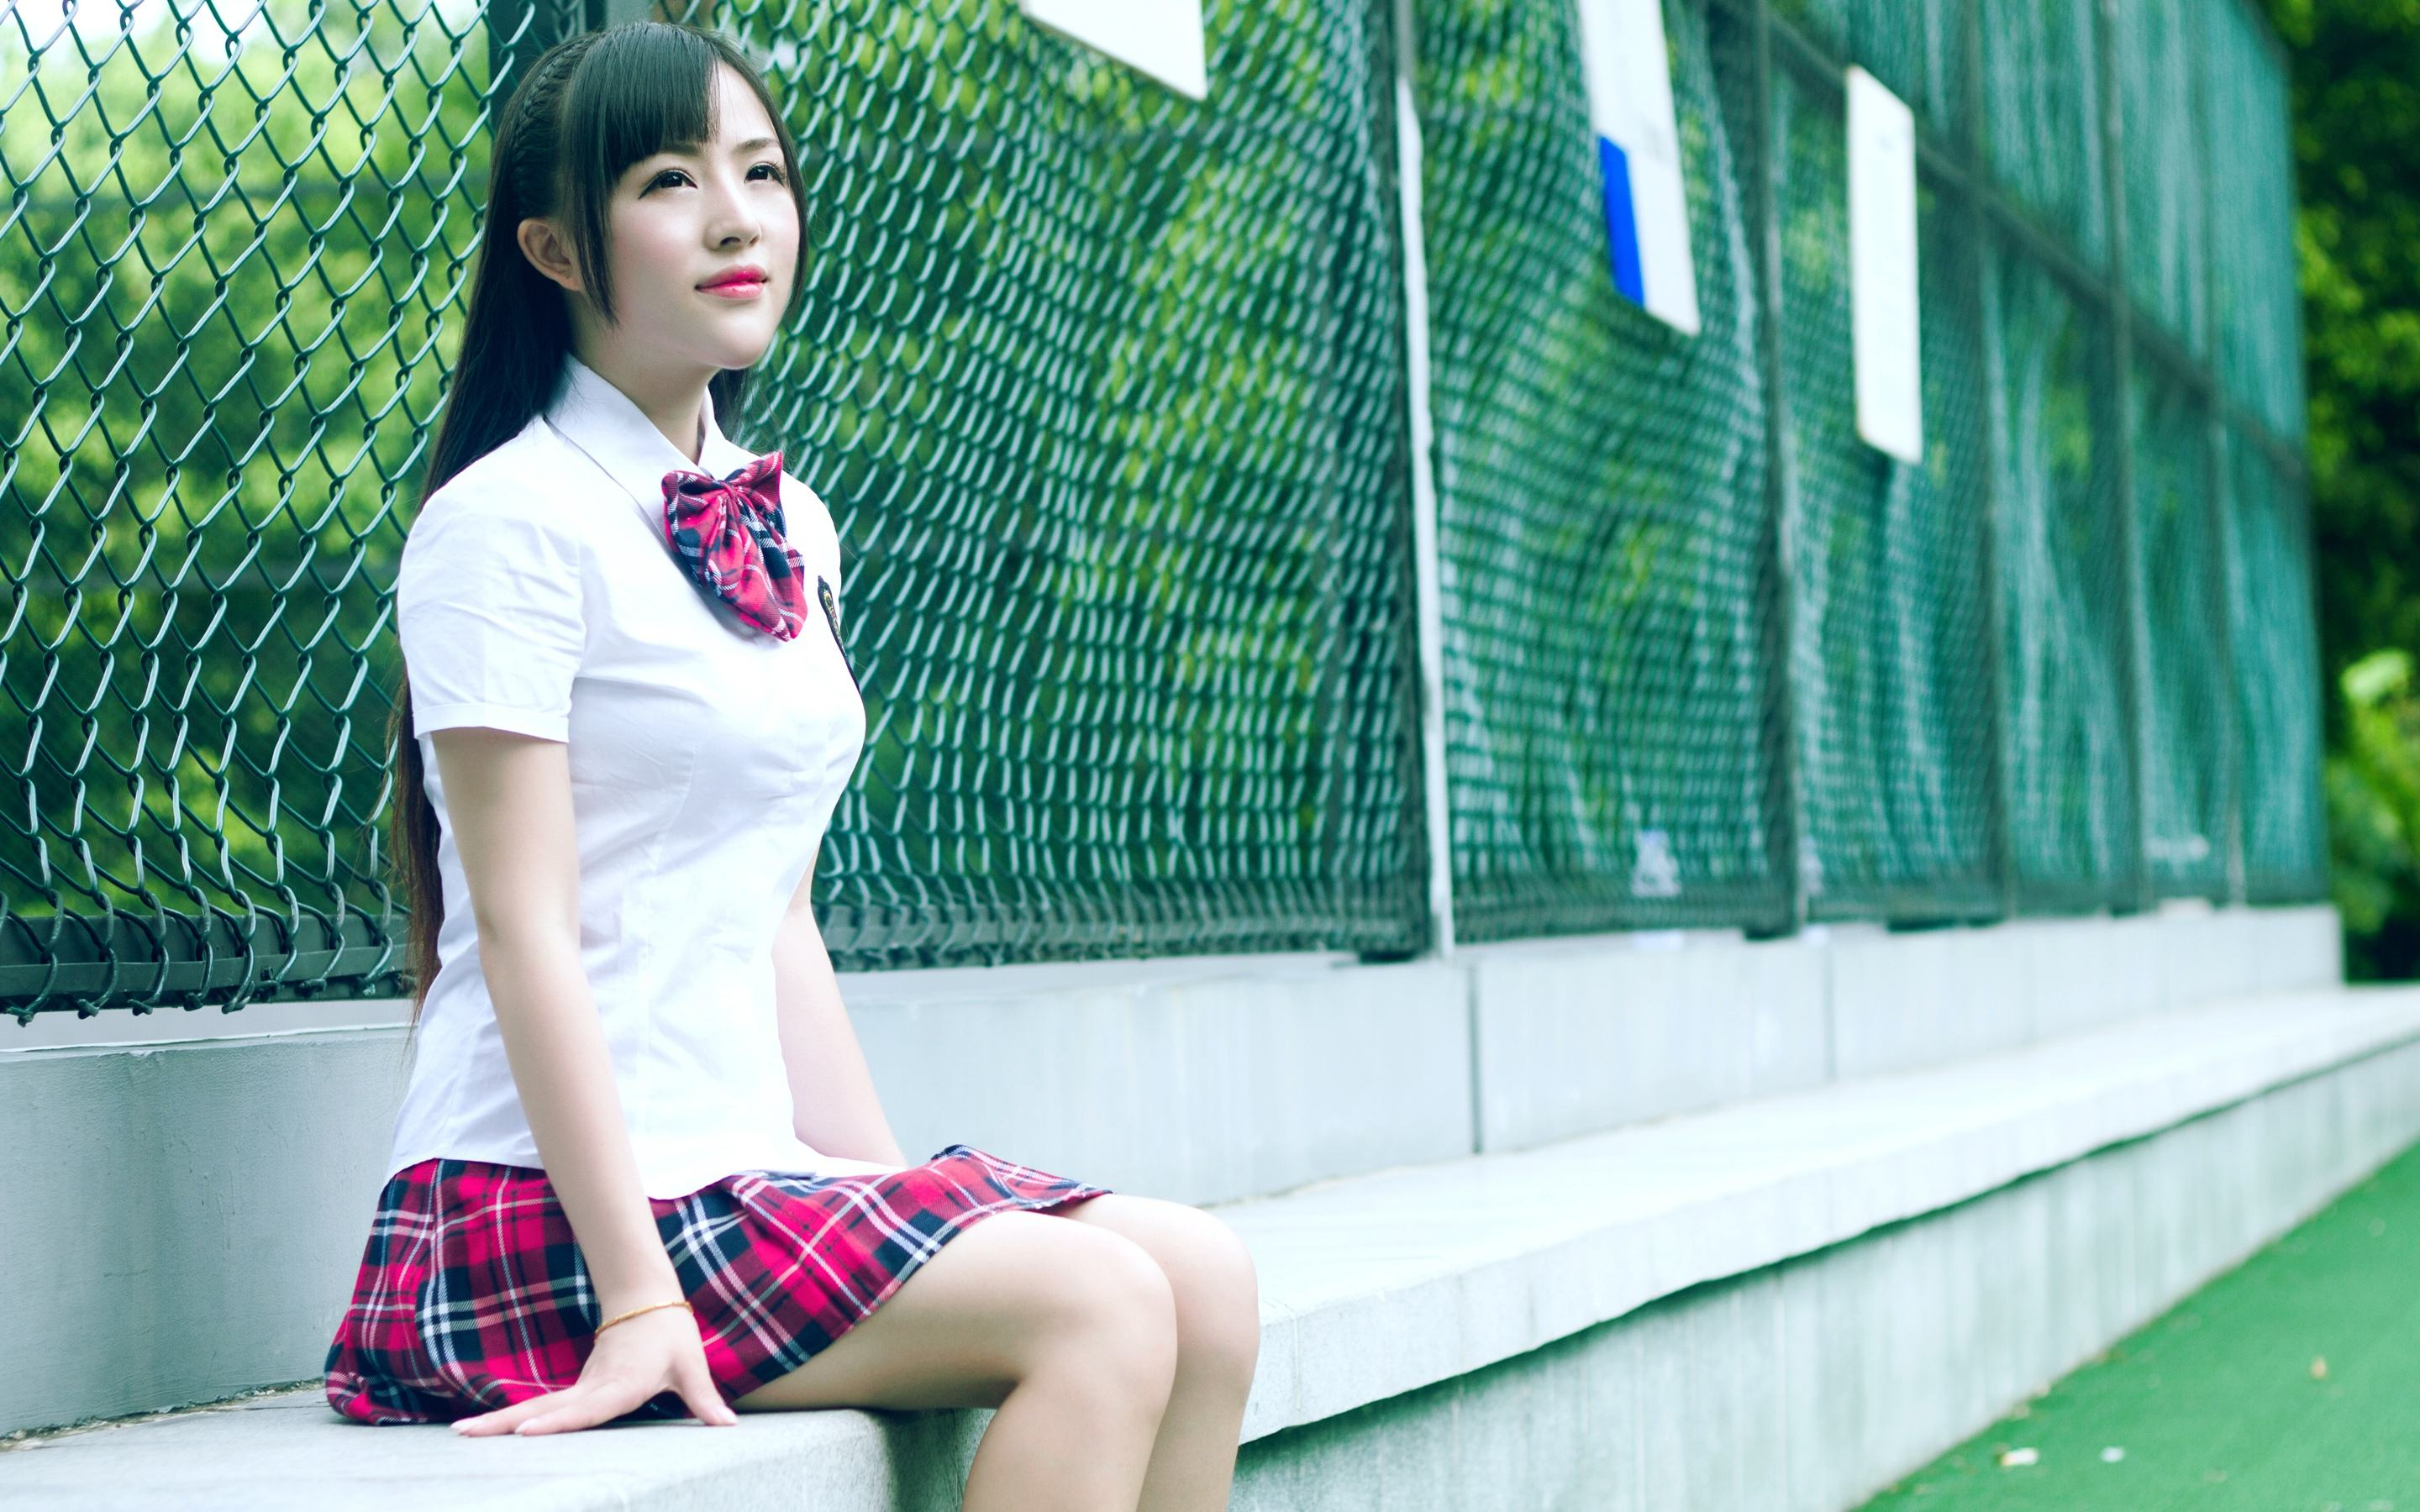person: (311, 42, 1477, 1417)
